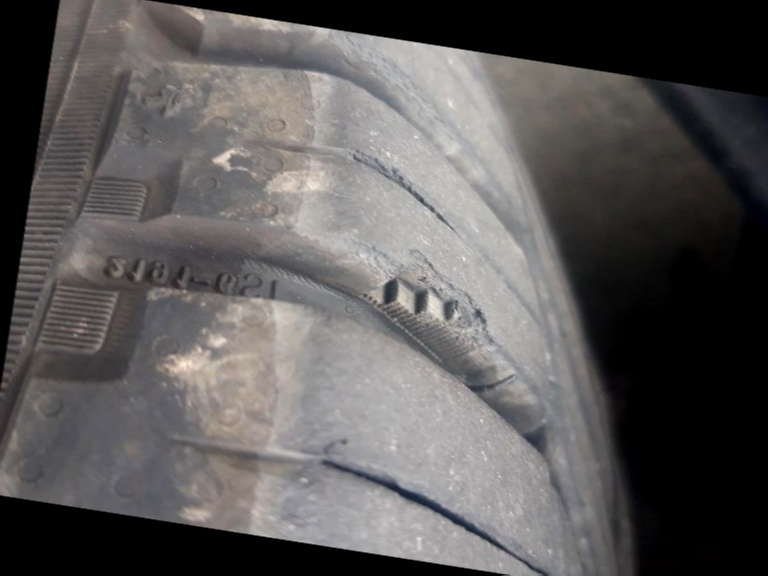temoin:80: (341, 236, 510, 375)
